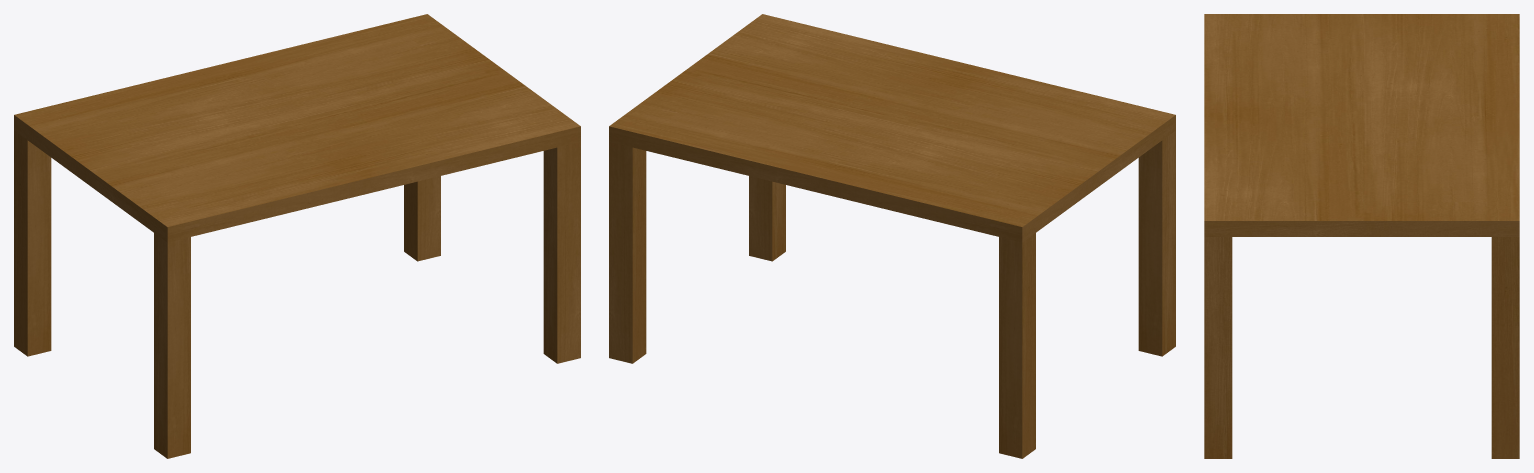
The model's file is table4.obj.
The picture shows the model from 3 angles, left to right: view 1: azimuth 30°, elevation 25°; view 2: azimuth 150°, elevation 25°; view 3: azimuth 270°, elevation 25°; orthographic projection. The views are drawn at different scales.
Visible parts, largest first — view 1: Mesh_fusta_taula_tipical.j_fusta_taula_tipical.j_fusta_taula_tip; view 2: Mesh_fusta_taula_tipical.j_fusta_taula_tipical.j_fusta_taula_tip; view 3: Mesh_fusta_taula_tipical.j_fusta_taula_tipical.j_fusta_taula_tip.
Boxes of the visible parts, x1=… form: Mesh_fusta_taula_tipical.j_fusta_taula_tipical.j_fusta_taula_tip: x1=14, y1=14, x2=580, y2=458; Mesh_fusta_taula_tipical.j_fusta_taula_tipical.j_fusta_taula_tip: x1=609, y1=14, x2=1175, y2=458; Mesh_fusta_taula_tipical.j_fusta_taula_tipical.j_fusta_taula_tip: x1=1204, y1=14, x2=1519, y2=458.
Size of the model in its own units: 14 by 7.5 by 9.
1 material, 1 textured.
